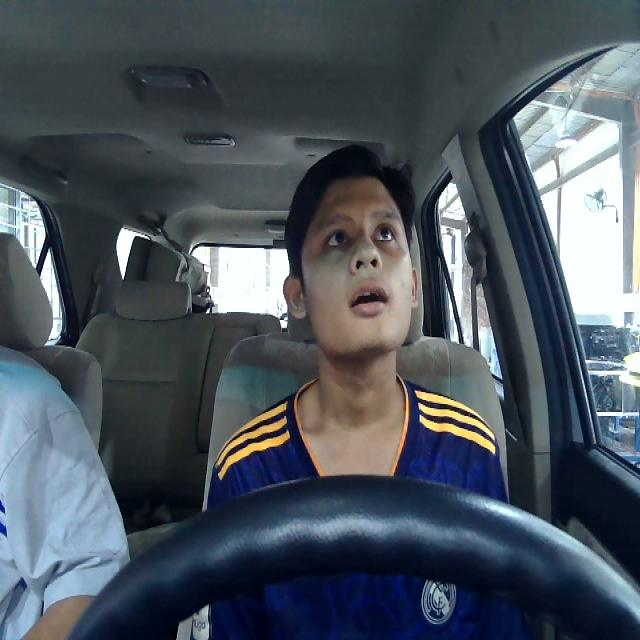yarning: (281, 178, 419, 362)
